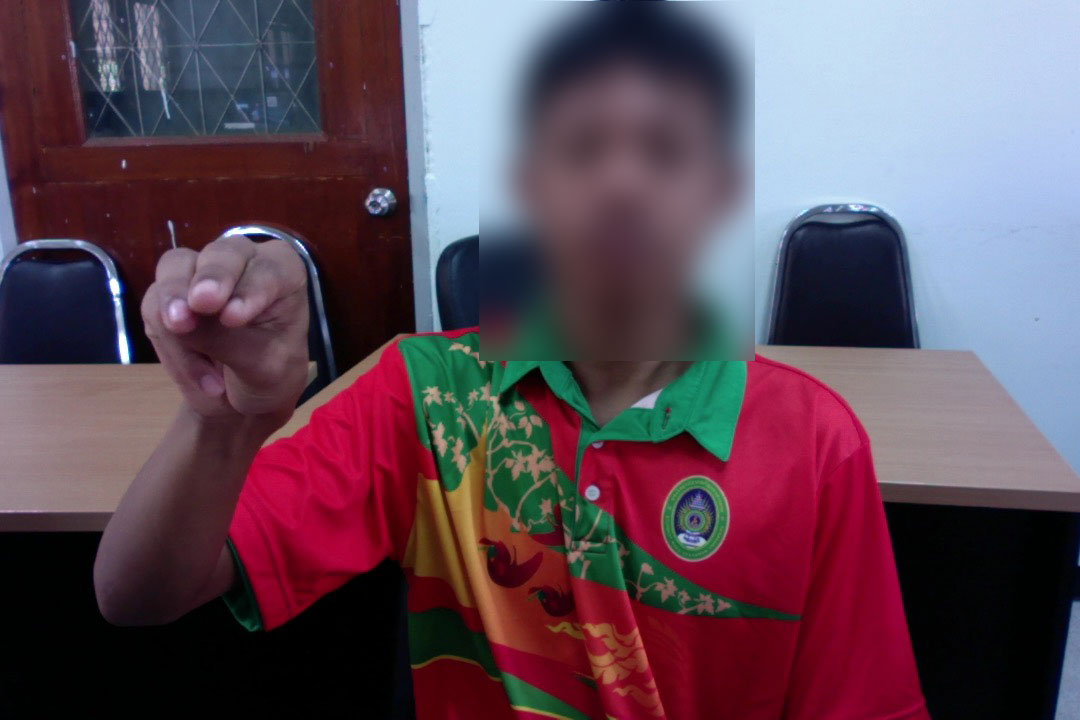mor: (126, 212, 332, 449)
